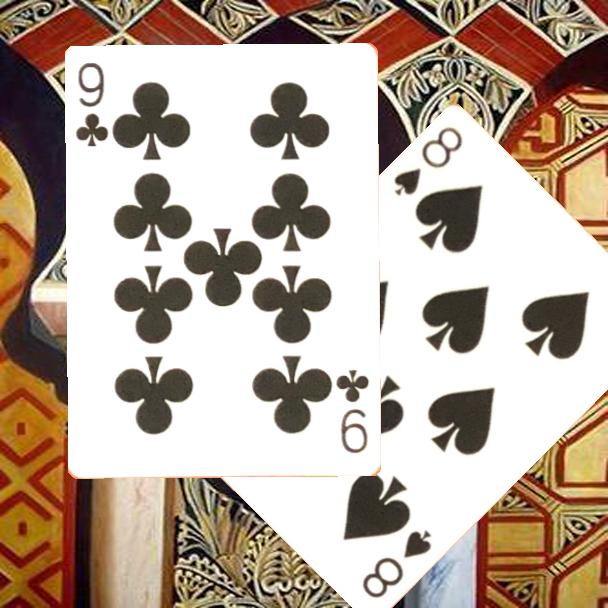c09: (334, 366, 373, 457), (73, 60, 112, 151)
s08: (358, 525, 435, 601), (390, 122, 466, 198)
